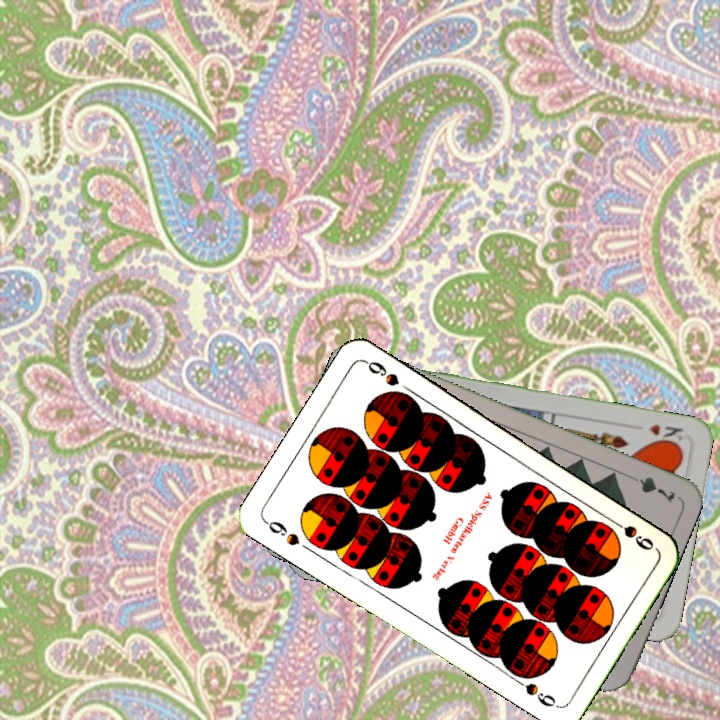G7: (622, 469, 679, 505)
HK: (645, 420, 685, 448)
S9: (605, 514, 657, 553), (260, 516, 302, 549)
